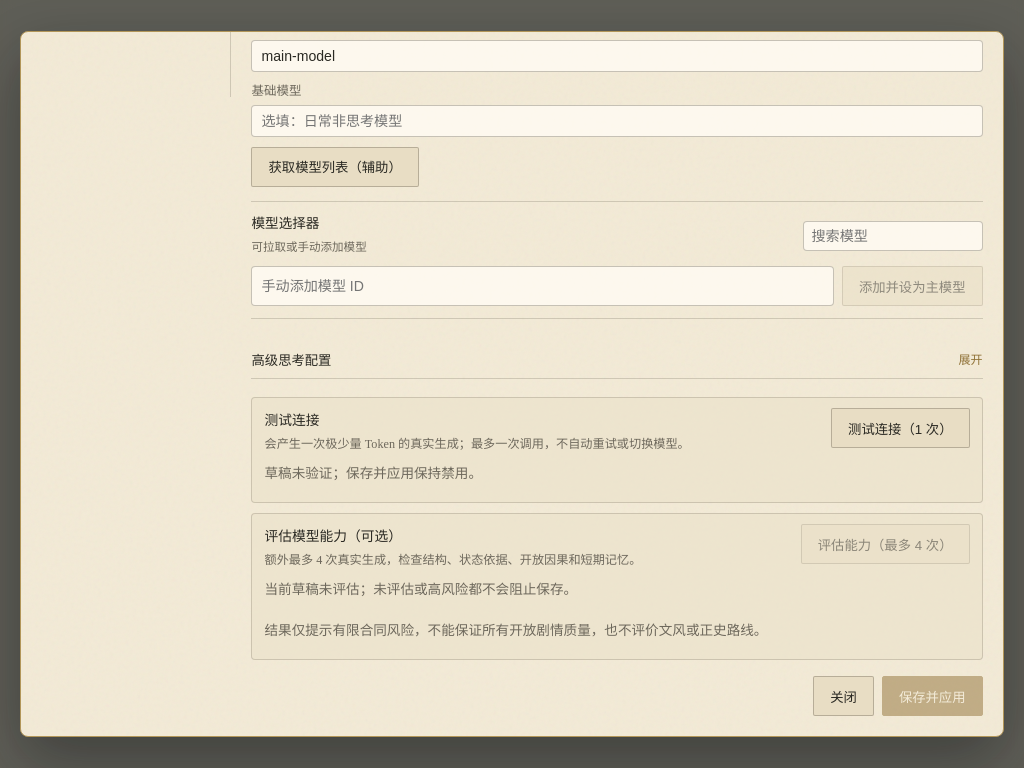
Test: AiSettingsModal verification and apply lifecycle › expires an already-returned token and never enables apply
(page scrolled)
Click the button "测试连接（1 次）". click: (900, 428)
box: [831,408,970,448]
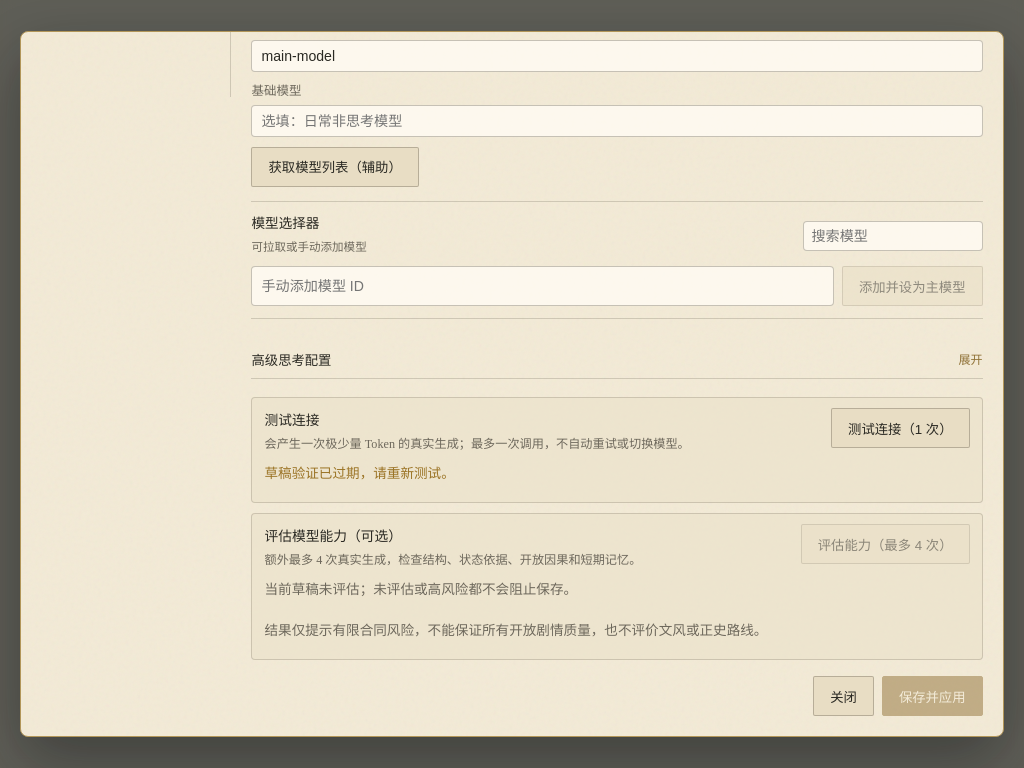
Expected: the button "保存并应用" is disabled, [882,676,982,716]
Result: the text "草稿验证已过期，请重新测试。" is shown at [264,466,455,481]
